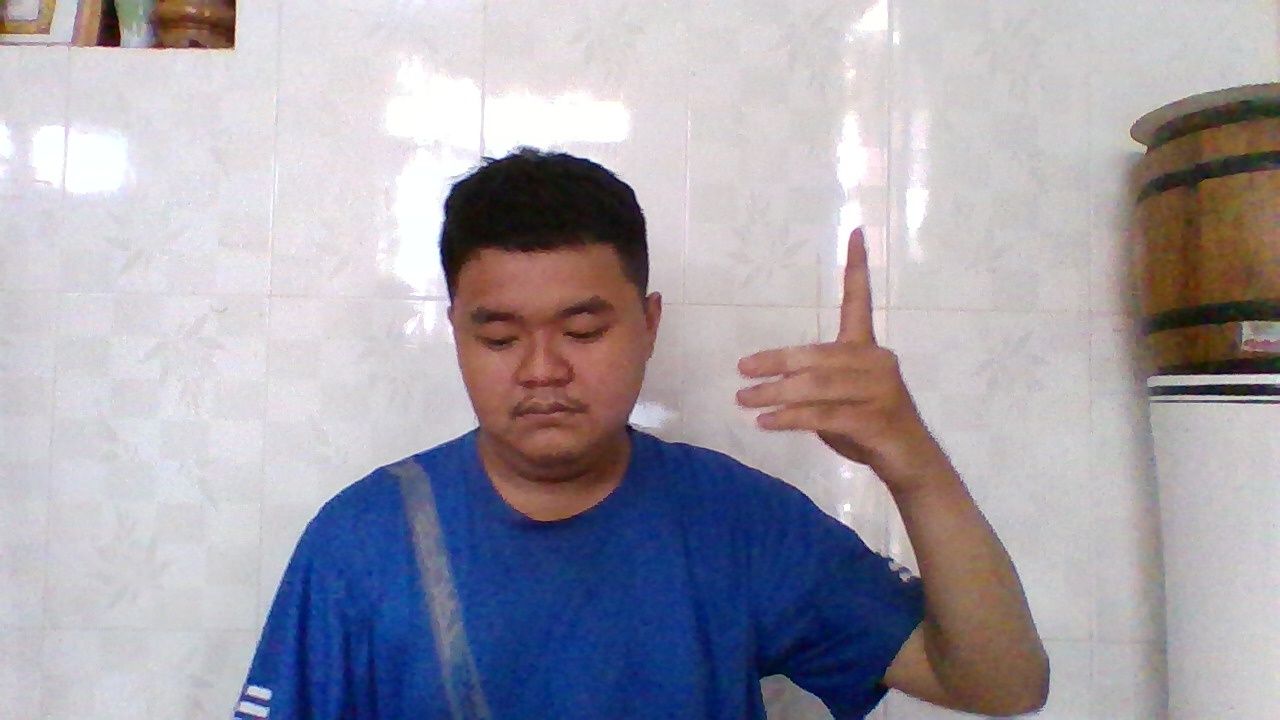D: (726, 218, 936, 491)
